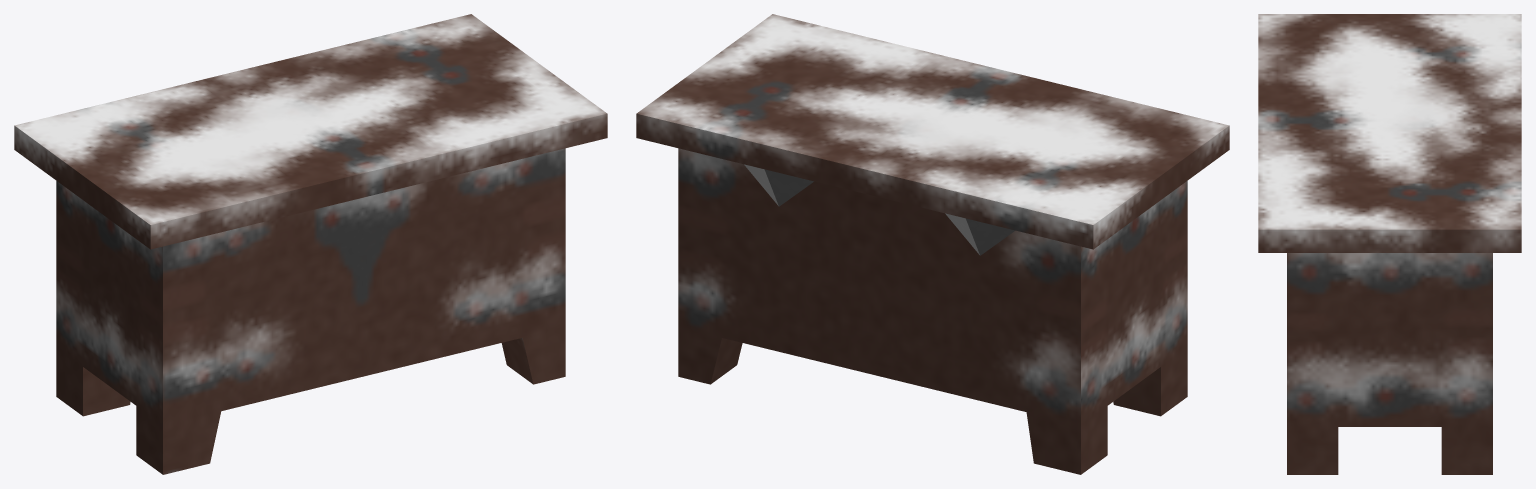
Rendered from winter_container_2.fbx.
3 renders of one model, left to right at view 1: azimuth 30°, elevation 25°; view 2: azimuth 150°, elevation 25°; view 3: azimuth 270°, elevation 25°, orthographic. The views are drawn at different scales.
Visible parts, largest first — view 1: winter_container_2; view 2: winter_container_2; view 3: winter_container_2.
Part boxes in pixels (x1,y1,x2,y2): winter_container_2: (14,14,607,474); winter_container_2: (636,14,1229,474); winter_container_2: (1258,14,1521,474).
Size of the model in its own units: 4.95 by 2.55 by 2.77.
